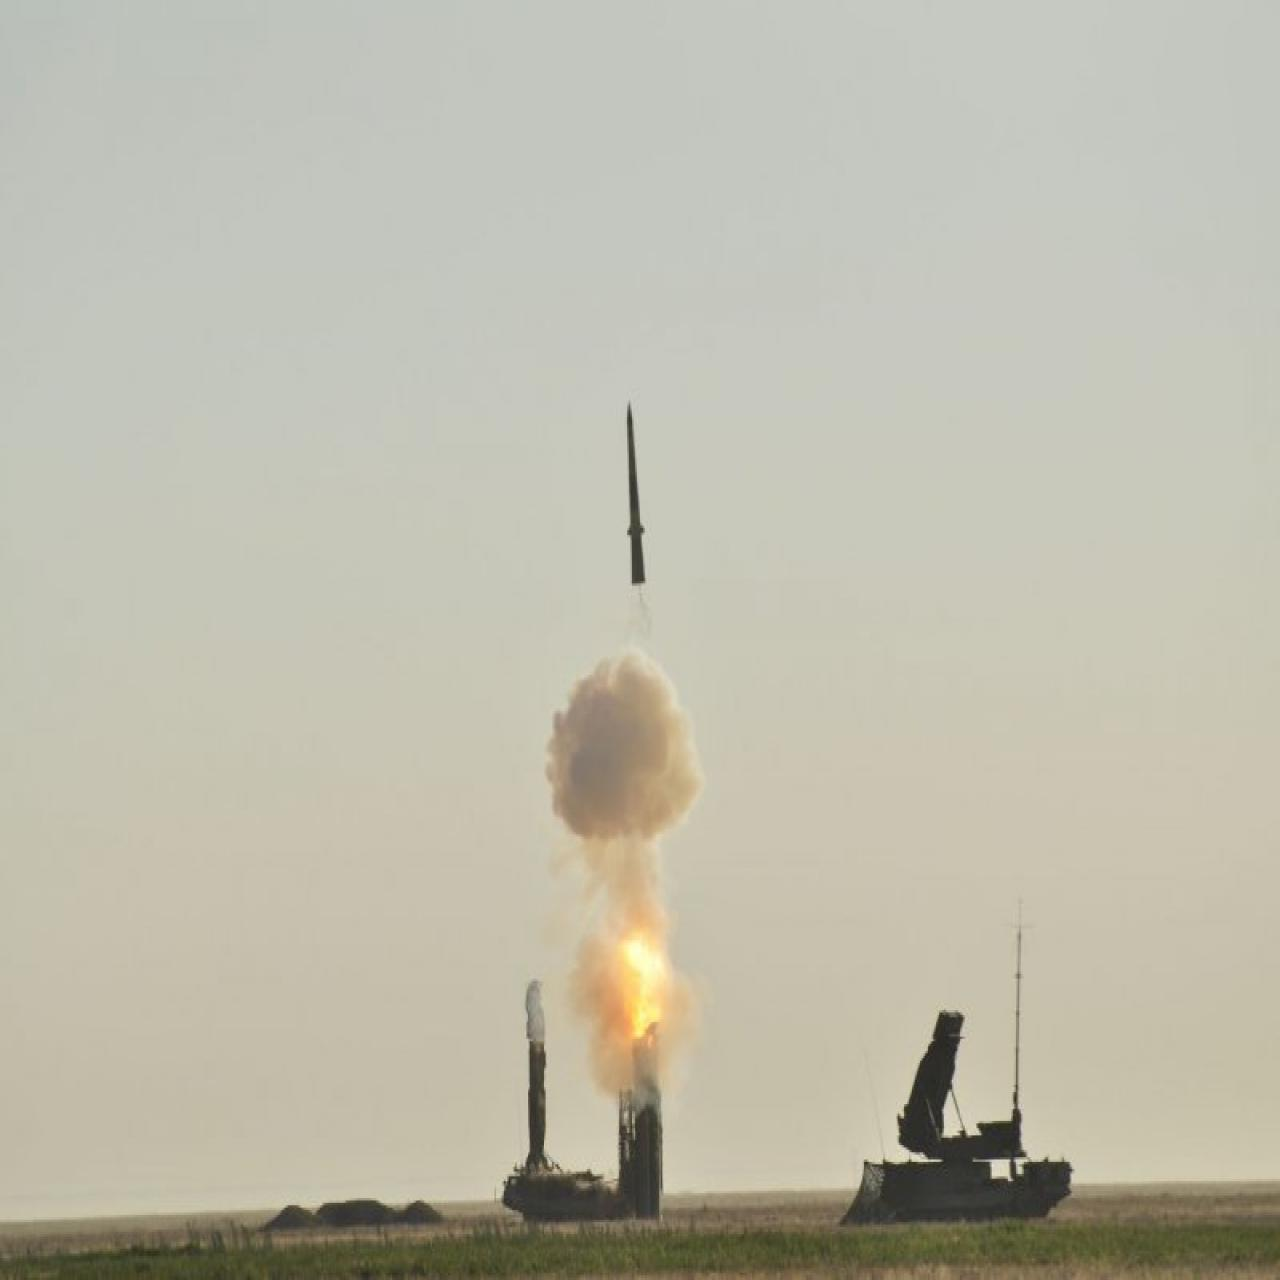MIL_Veh: (850, 1005, 1081, 1233), (497, 1048, 680, 1230)
